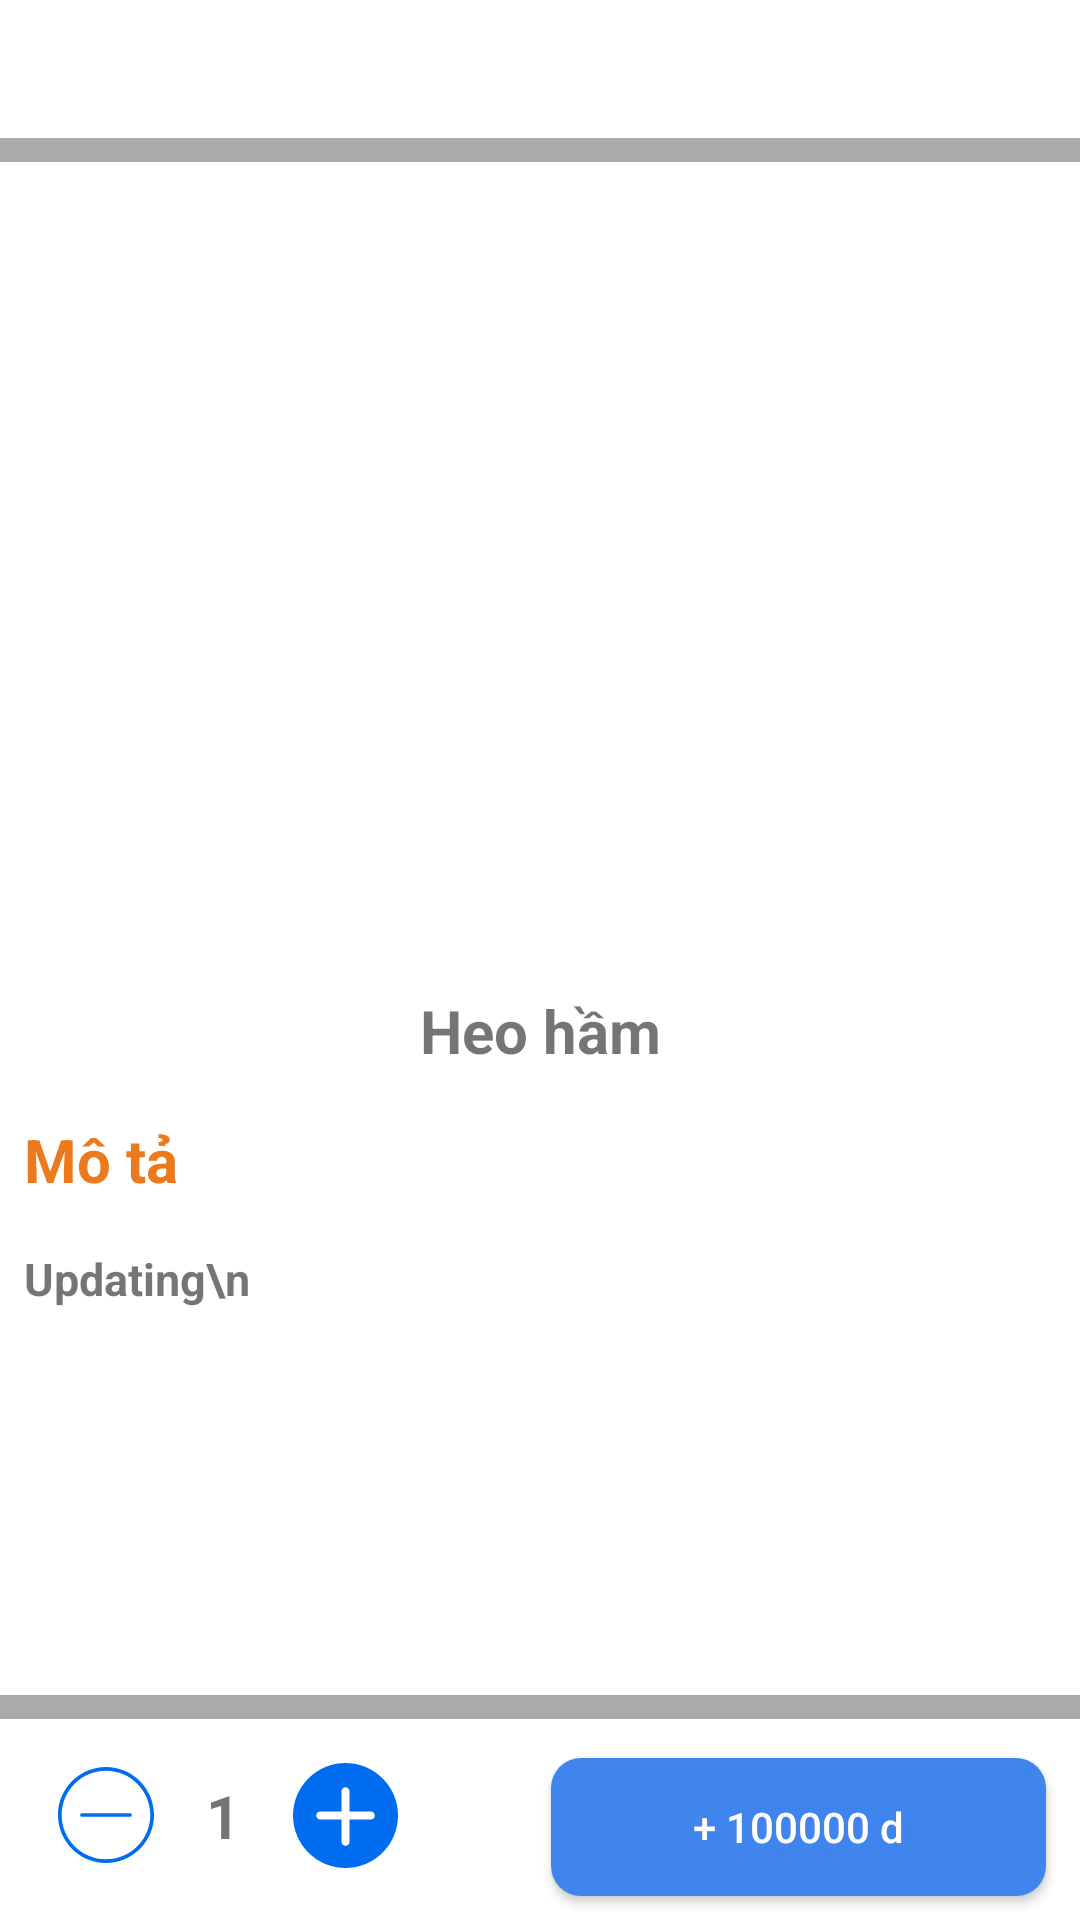

Named icons in this screenshot (1080w x 1920h) and their bounding boxes, [x1=x1, y1=y1, x2=x2, y2=y2]:
add: [x1=293, y1=1763, x2=398, y2=1868]
minus: [x1=58, y1=1767, x2=154, y2=1863]
